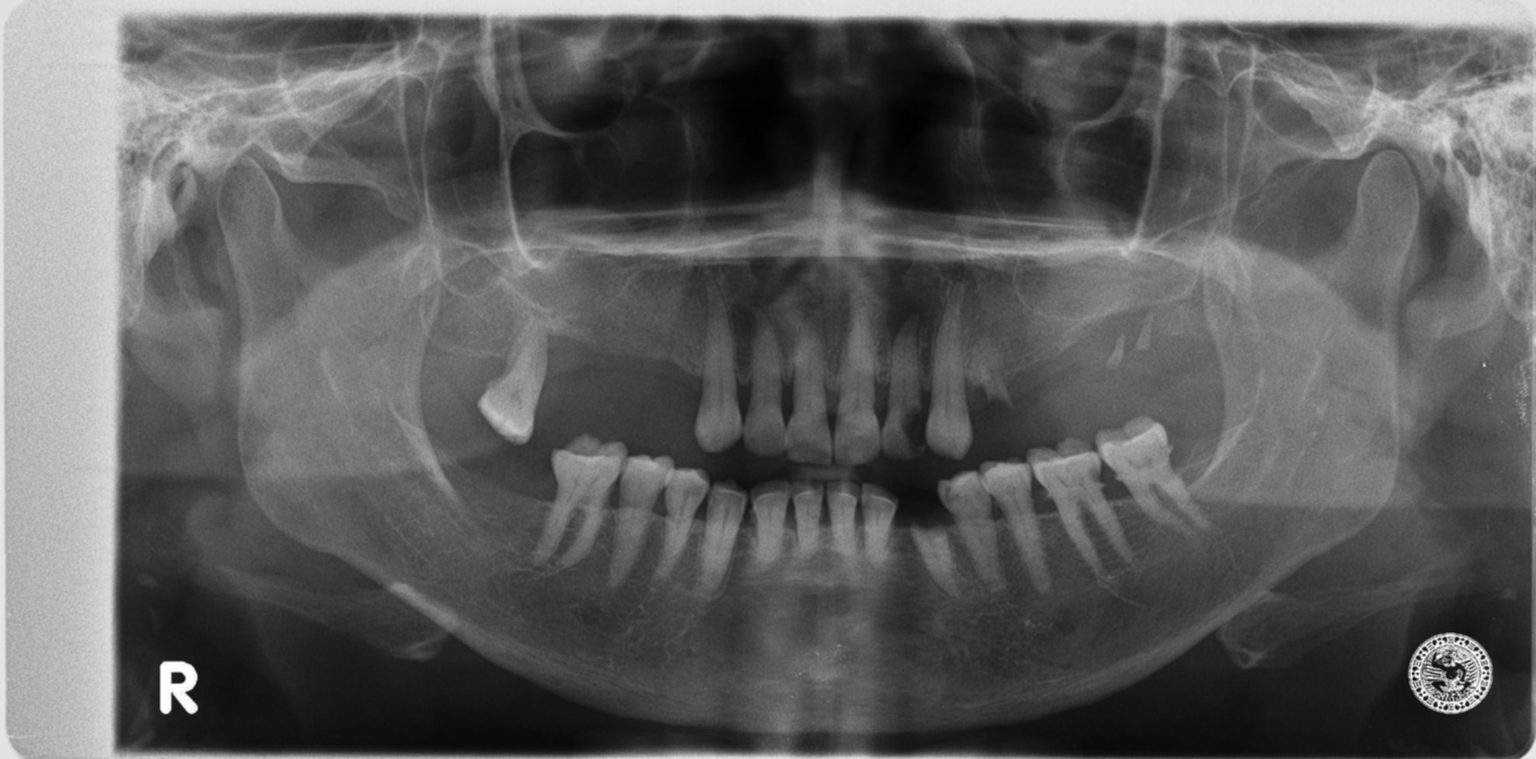Individual Tooth: (1025, 438, 1129, 576), (1094, 417, 1207, 533), (532, 434, 628, 569), (981, 462, 1051, 594), (607, 456, 675, 588), (477, 324, 548, 445), (833, 288, 881, 465), (926, 287, 972, 459), (695, 296, 743, 452), (938, 471, 1001, 579), (652, 468, 710, 581), (784, 332, 830, 462), (881, 315, 923, 457), (696, 482, 747, 598), (742, 325, 785, 456), (912, 527, 959, 597), (752, 481, 792, 561), (860, 484, 896, 554), (827, 481, 859, 553), (791, 482, 823, 554)
